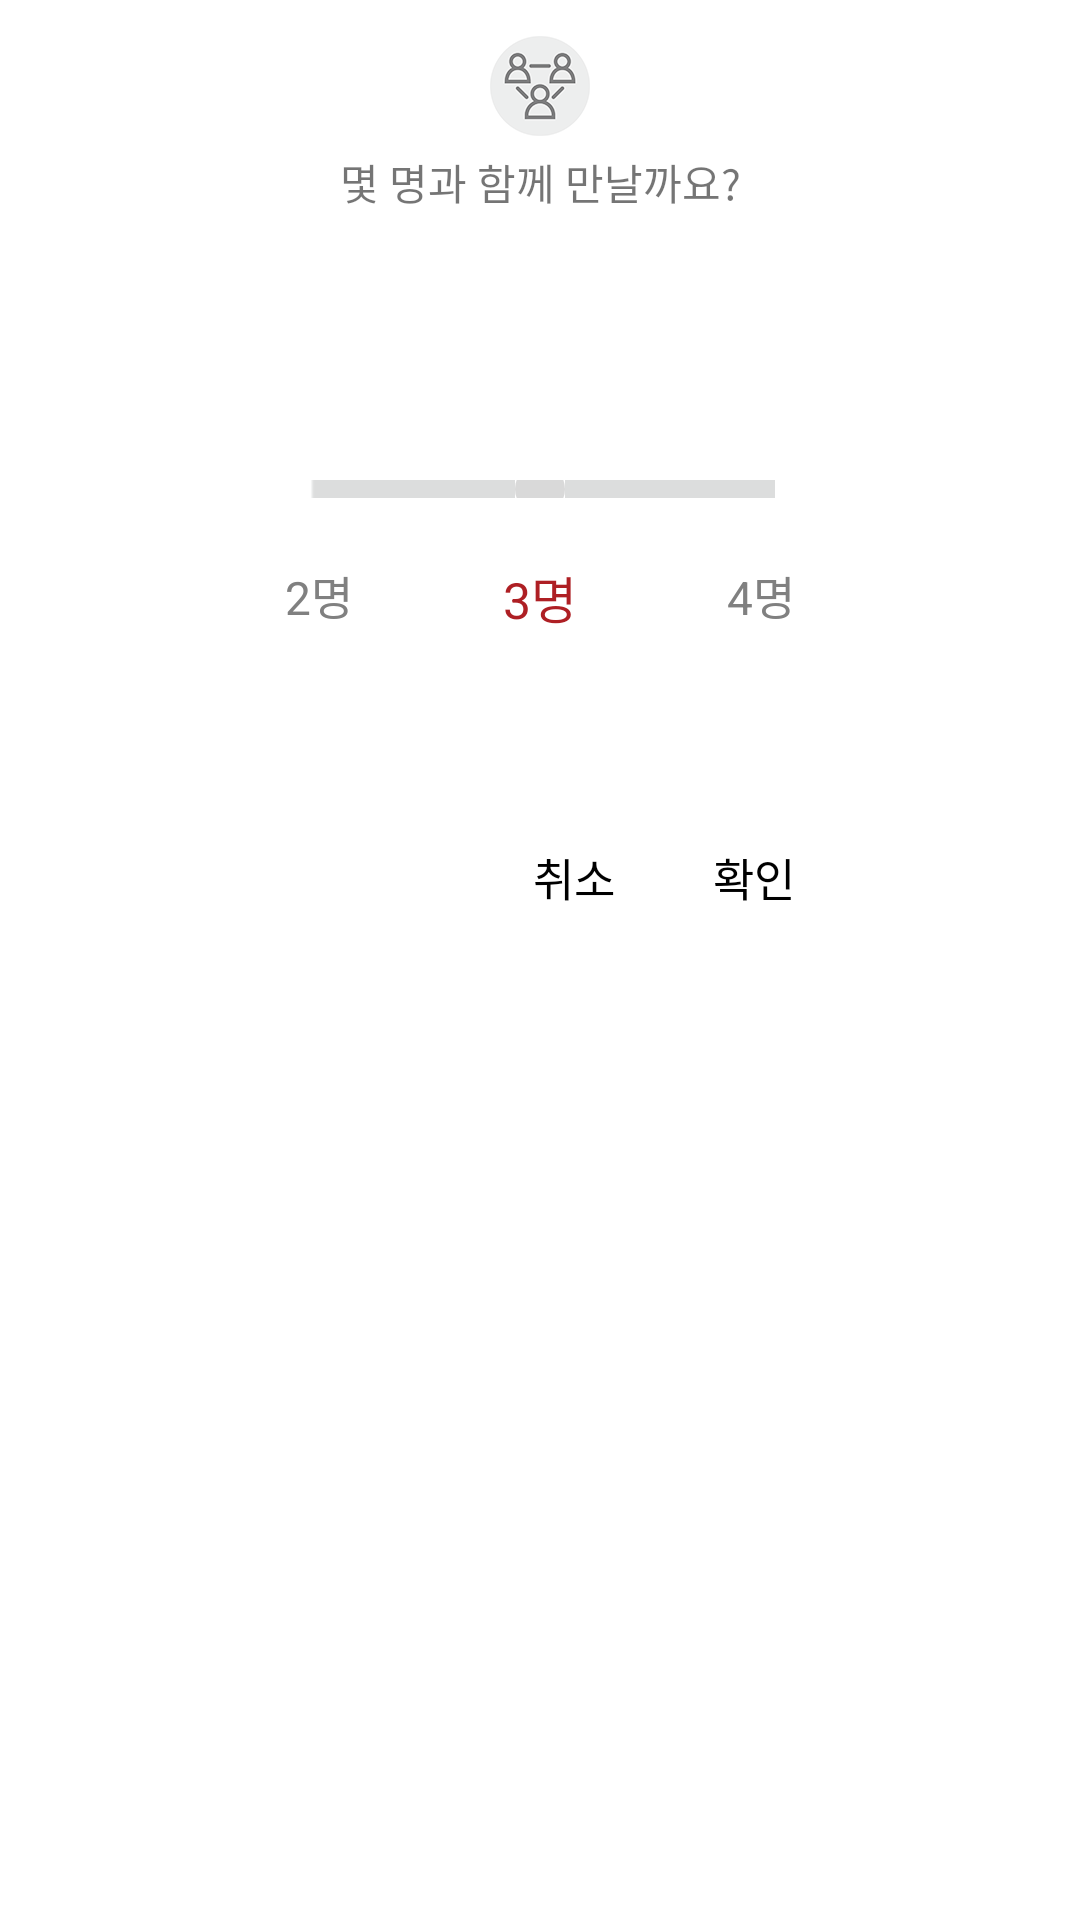

Where icons sit on this 1080 × 1920 app screen, as bbox(x1, y1, x2, y2):
enrollment people un: bbox(490, 36, 590, 136)
